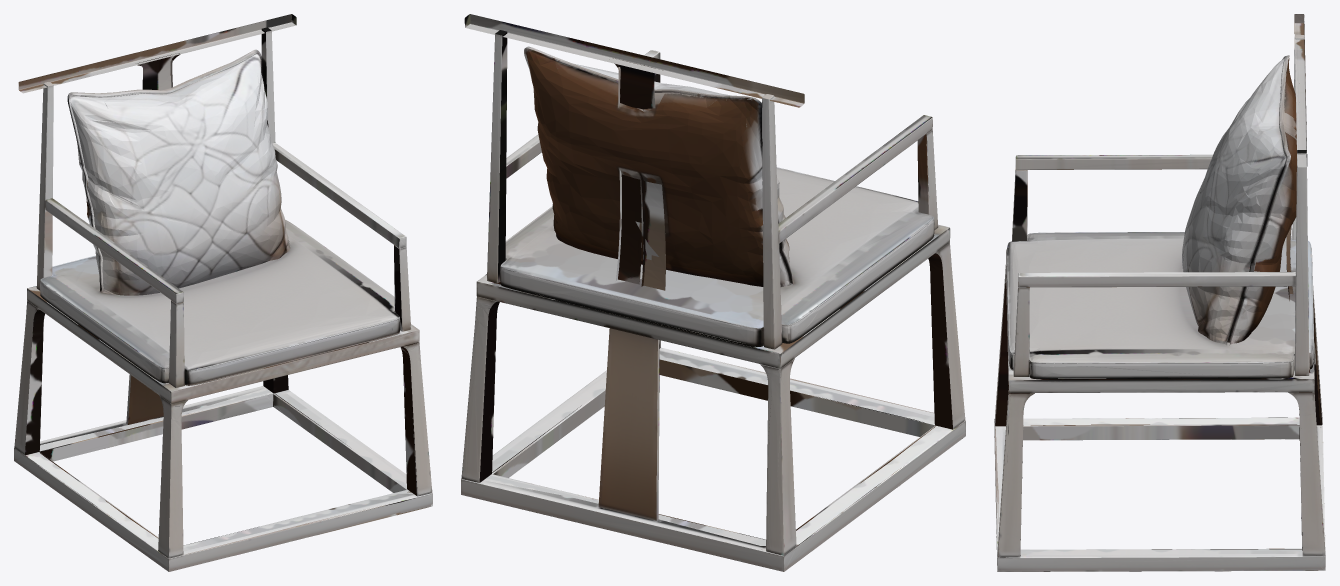
File: edited_mesh.glb
The picture shows the model from 3 angles, left to right: view 1: azimuth 30°, elevation 25°; view 2: azimuth 150°, elevation 25°; view 3: azimuth 270°, elevation 25°; orthographic projection. The views are drawn at different scales.
Parts seen in each view (by area): view 1: solid_001_wire; view 2: solid_001_wire; view 3: solid_001_wire.
Boxes of the visible parts, box(x1,y1,x2,y2) form: solid_001_wire: box(14, 14, 432, 571); solid_001_wire: box(461, 14, 965, 571); solid_001_wire: box(994, 14, 1325, 571).
Size of the model in its own units: 1.08 by 1.46 by 1.05.
Materials: 1 (1 with a texture image).
